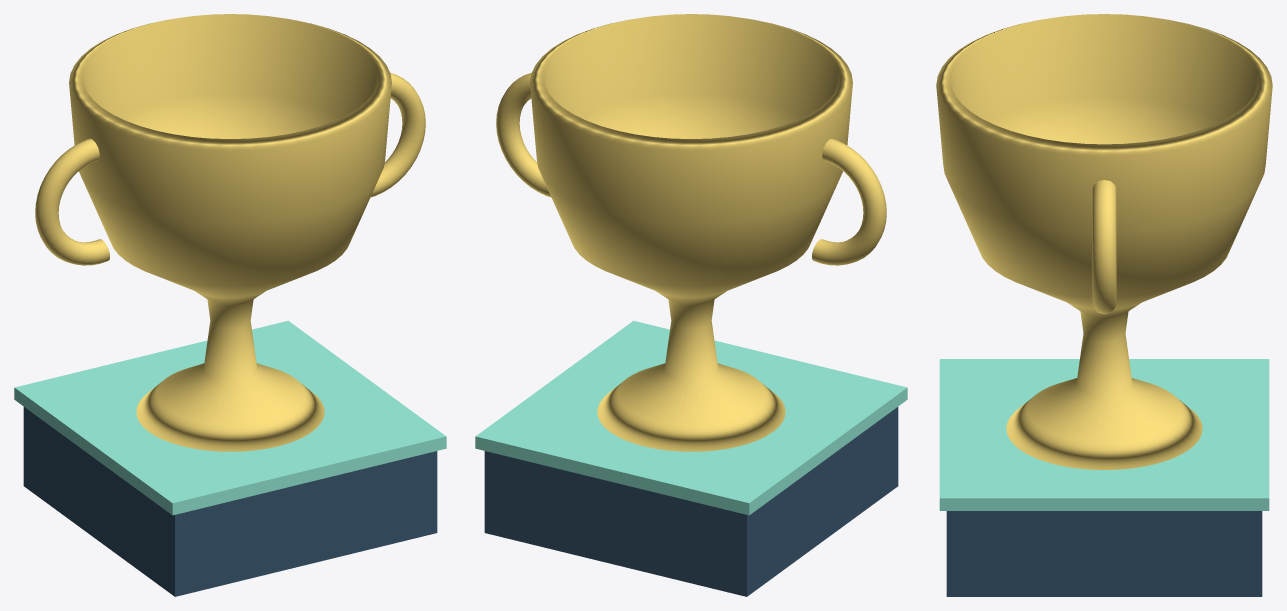
Rendered from trophy.glb.
3 views of the same model, side by side, from view 1: azimuth 30°, elevation 25°; view 2: azimuth 150°, elevation 25°; view 3: azimuth 270°, elevation 25° (orthographic). The views are drawn at different scales.
Size of the model in its own units: 1.33 by 1.42 by 0.96.
